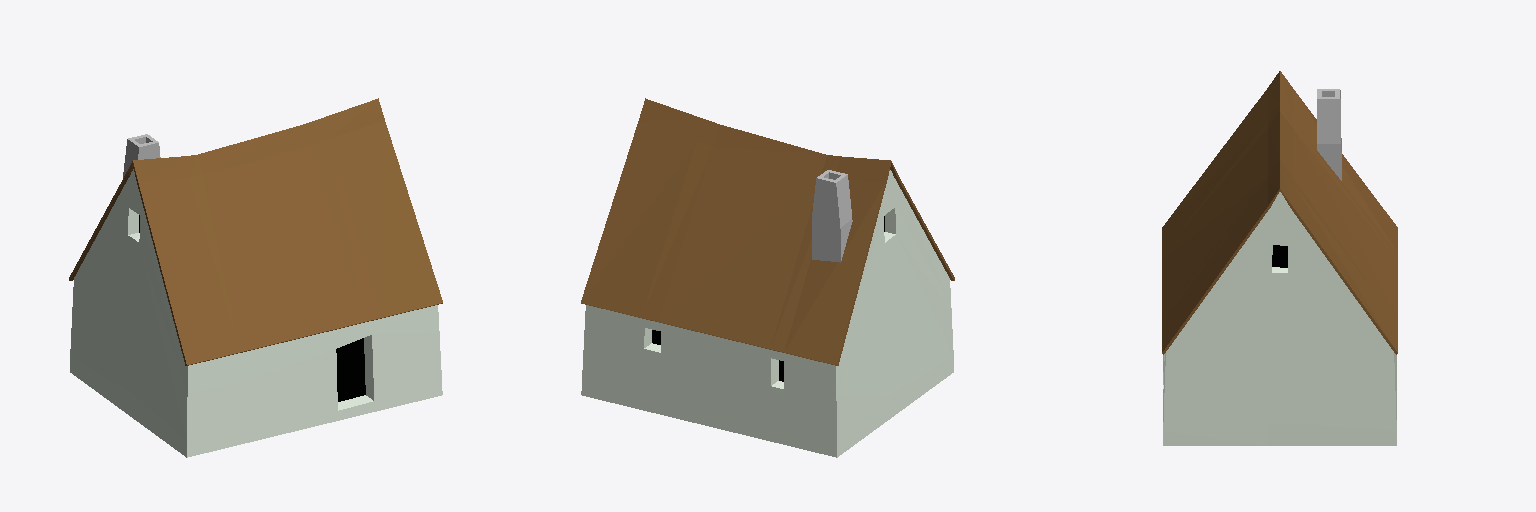
File: irishHouse.obj
3 renders of one model, left to right at view 1: azimuth 30°, elevation 25°; view 2: azimuth 150°, elevation 25°; view 3: azimuth 270°, elevation 25°, orthographic.
Parts seen in each view (by area): view 1: Cube.005; view 2: Cube.005; view 3: Cube.005.
Part boxes in pixels (bbox=[...]): Cube.005: bbox=[69, 98, 442, 457]; Cube.005: bbox=[581, 98, 954, 457]; Cube.005: bbox=[1162, 71, 1397, 445].
Size of the model in its own units: 8.01 by 7.61 by 6.39.